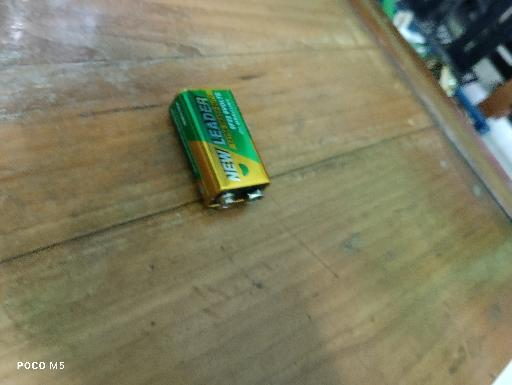Battery: (169, 89, 271, 210)
